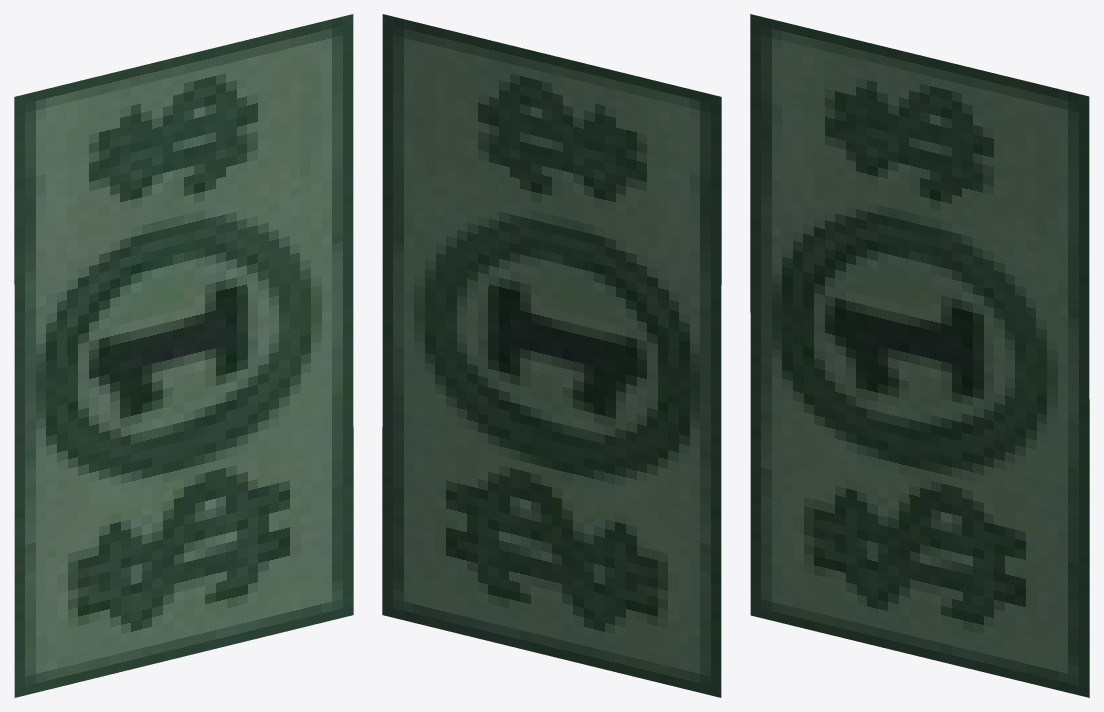
Rendered from 1dollar.glb.
The picture shows the model from 3 angles, left to right: view 1: azimuth 30°, elevation 25°; view 2: azimuth 150°, elevation 25°; view 3: azimuth 330°, elevation 25°; orthographic projection.
Parts seen in each view (by area): view 1: 1dollar; view 2: 1dollar; view 3: 1dollar.
Boxes of the visible parts, bbox=[...] form: 1dollar: bbox=[14, 14, 353, 697]; 1dollar: bbox=[382, 14, 721, 697]; 1dollar: bbox=[750, 14, 1089, 697].
Bounding box in the file's own units: 0.5733 × 0.9712 × 3.79e-10.
Materials: 1 (1 with a texture image).
